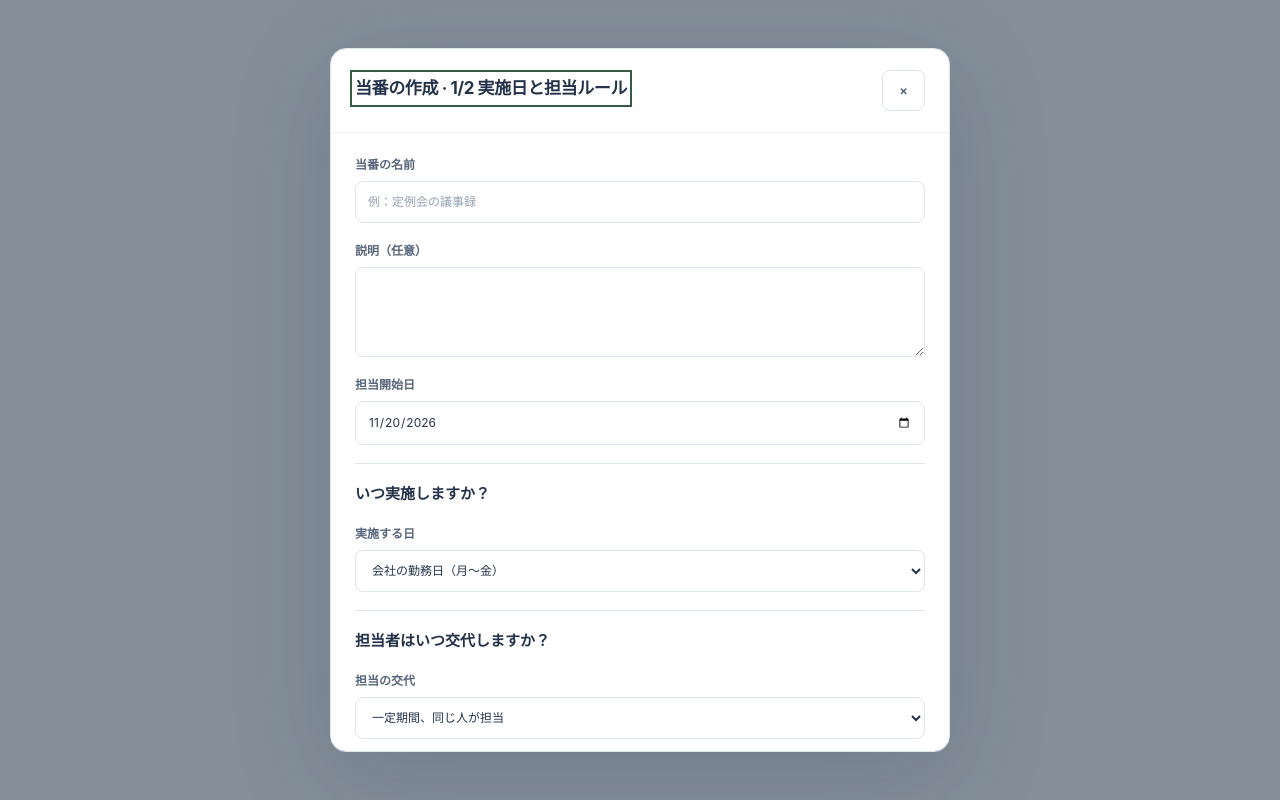
Test: renders all five meeting turns as individual dates or undecided dates
This screenshot has width=1280, height=800.
Step 1. Type "定例会" into the field labelled "当番の名前" → (640, 202), box [355, 181, 925, 223]
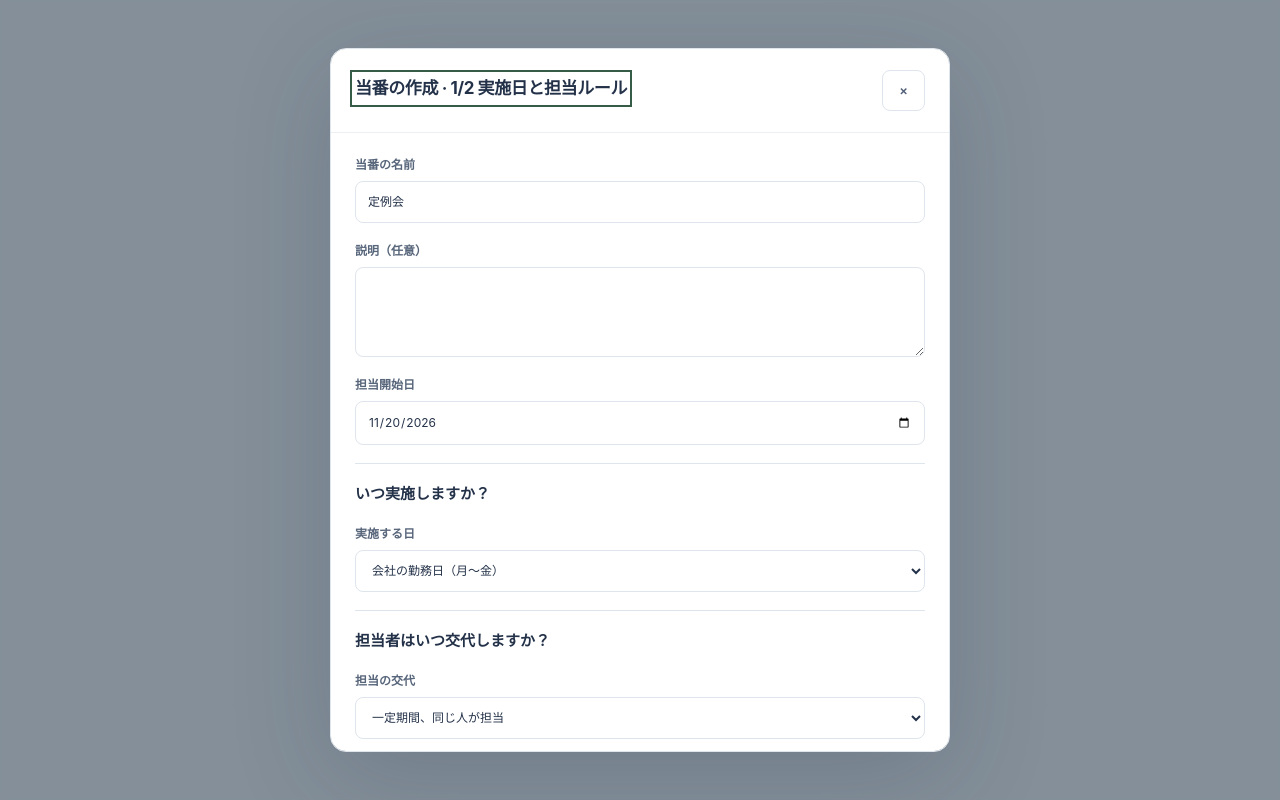
Step 2. Select "開催日を個別に指定" in the dropdown labelled "実施する日" → (640, 571), box [355, 550, 925, 592]
(page scrolled)
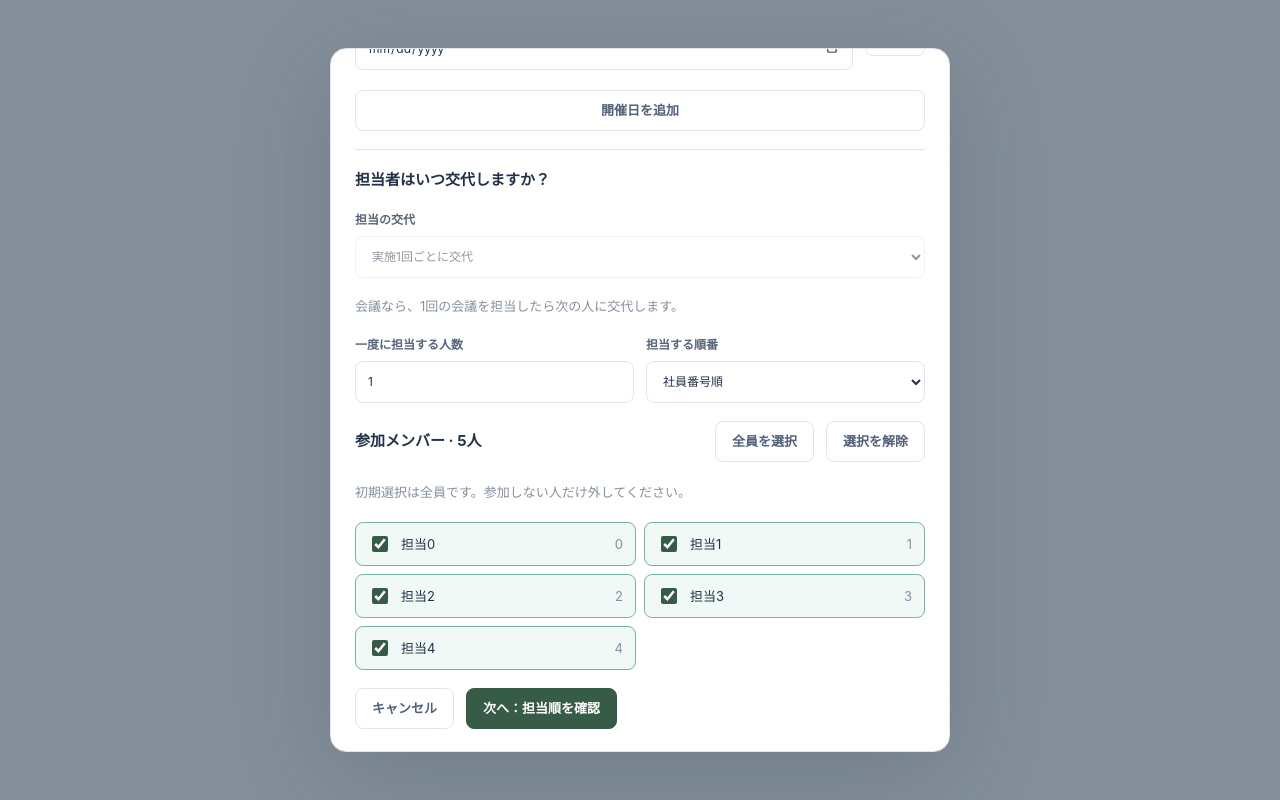
Step 3. Click the button "次へ：担当順を確認" → (542, 709), box [466, 688, 617, 729]
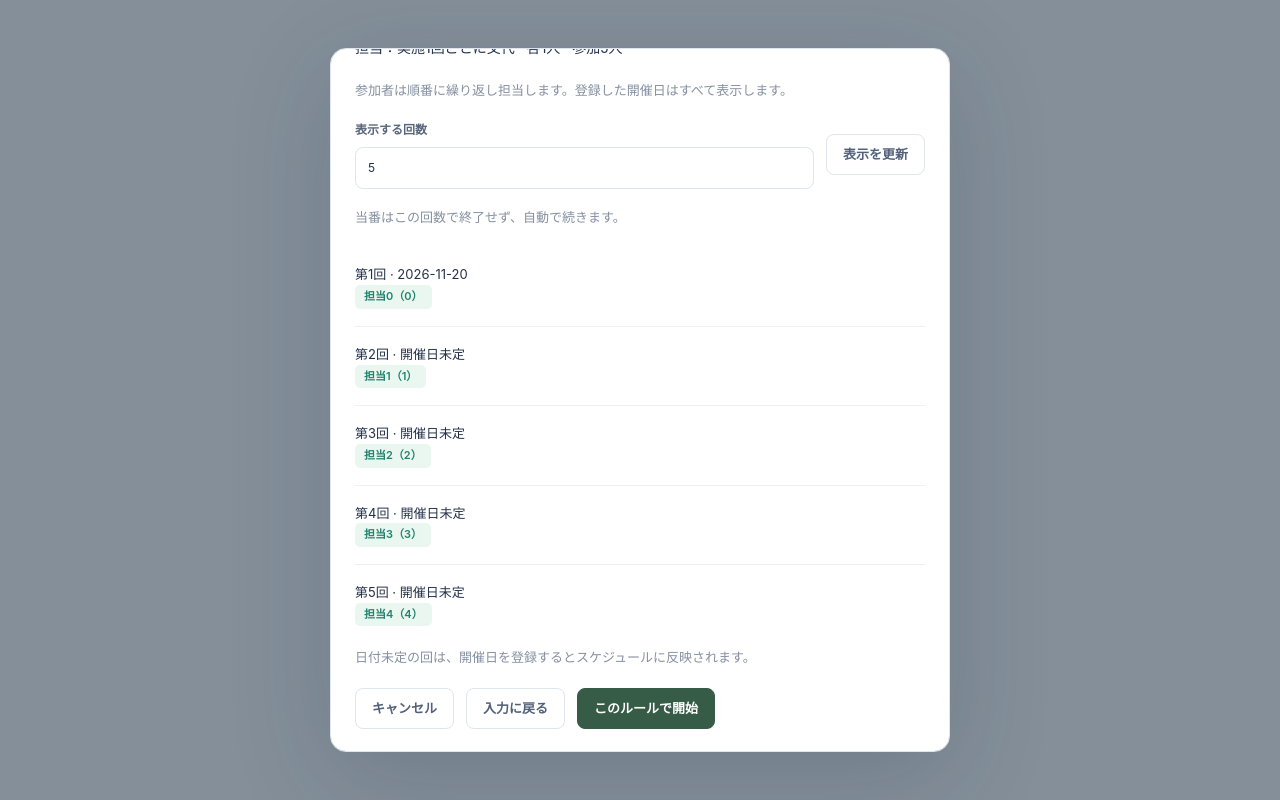
Check: the text "第5回 · 開催日未定" is shown, box [355, 584, 465, 600]
Check: the text "第1回 · 2026-11-20" is shown, box [355, 266, 468, 282]
Check: the button "このルールで開始" is shown, box [577, 688, 715, 729]
